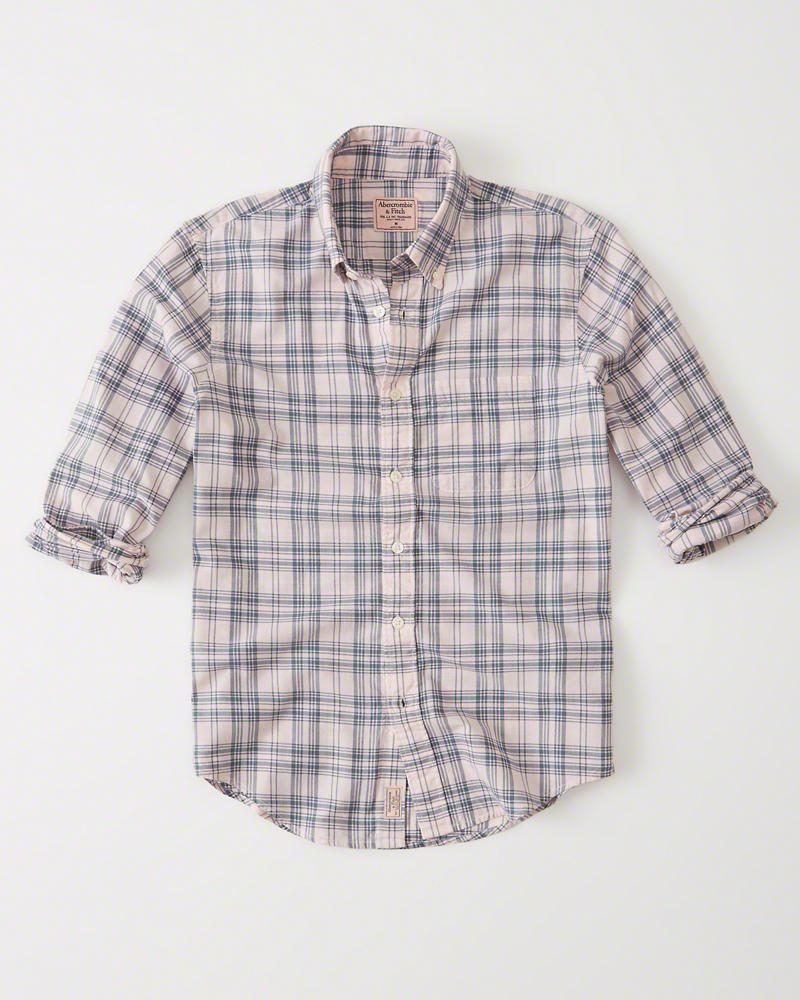teeshirt: (30, 125, 780, 845)
